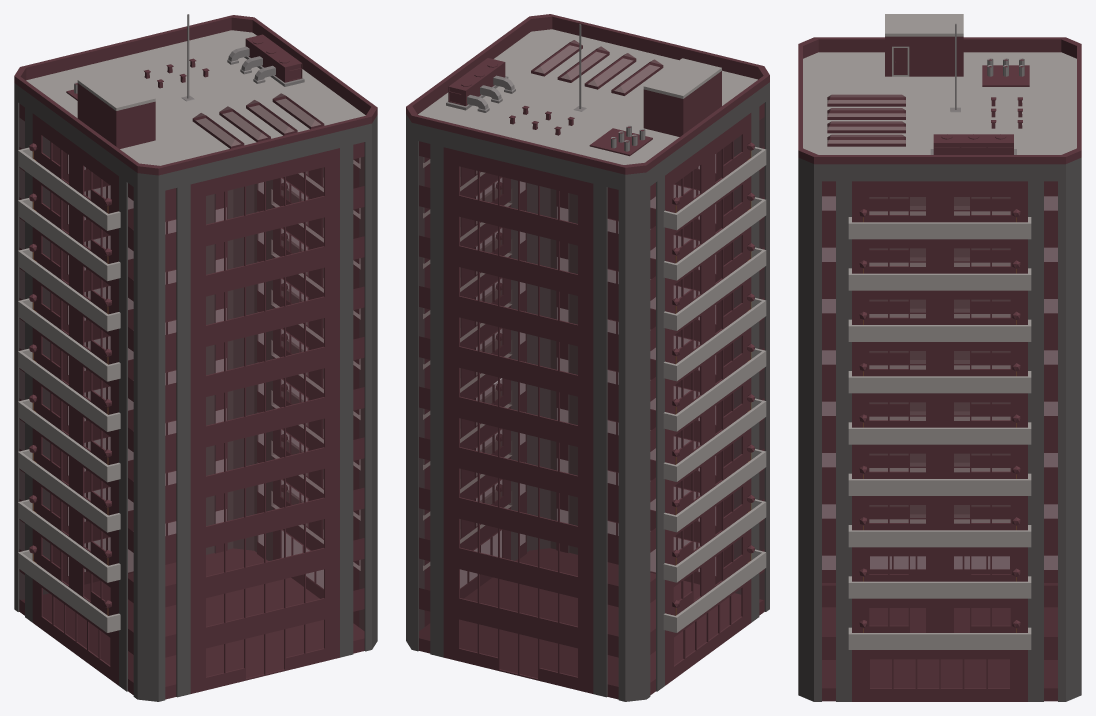
File: building-office-balcony.fbx
The picture shows the model from 3 angles, left to right: view 1: azimuth 30°, elevation 25°; view 2: azimuth 150°, elevation 25°; view 3: azimuth 270°, elevation 25°; orthographic projection. The views are drawn at different scales.
Parts seen in each view (by area): view 1: building-office-balcony; view 2: building-office-balcony; view 3: building-office-balcony.
Part boxes in pixels (x1=…): building-office-balcony: x1=14, y1=14, x2=377, y2=701; building-office-balcony: x1=406, y1=14, x2=769, y2=701; building-office-balcony: x1=798, y1=14, x2=1081, y2=701.
Bounding box in the file's own units: 20 × 43.33 × 18.
